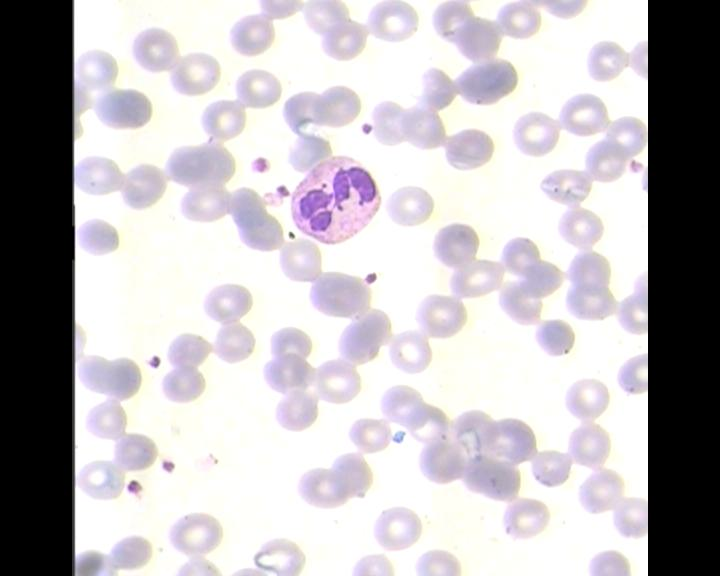neut: (287, 152, 382, 247)
